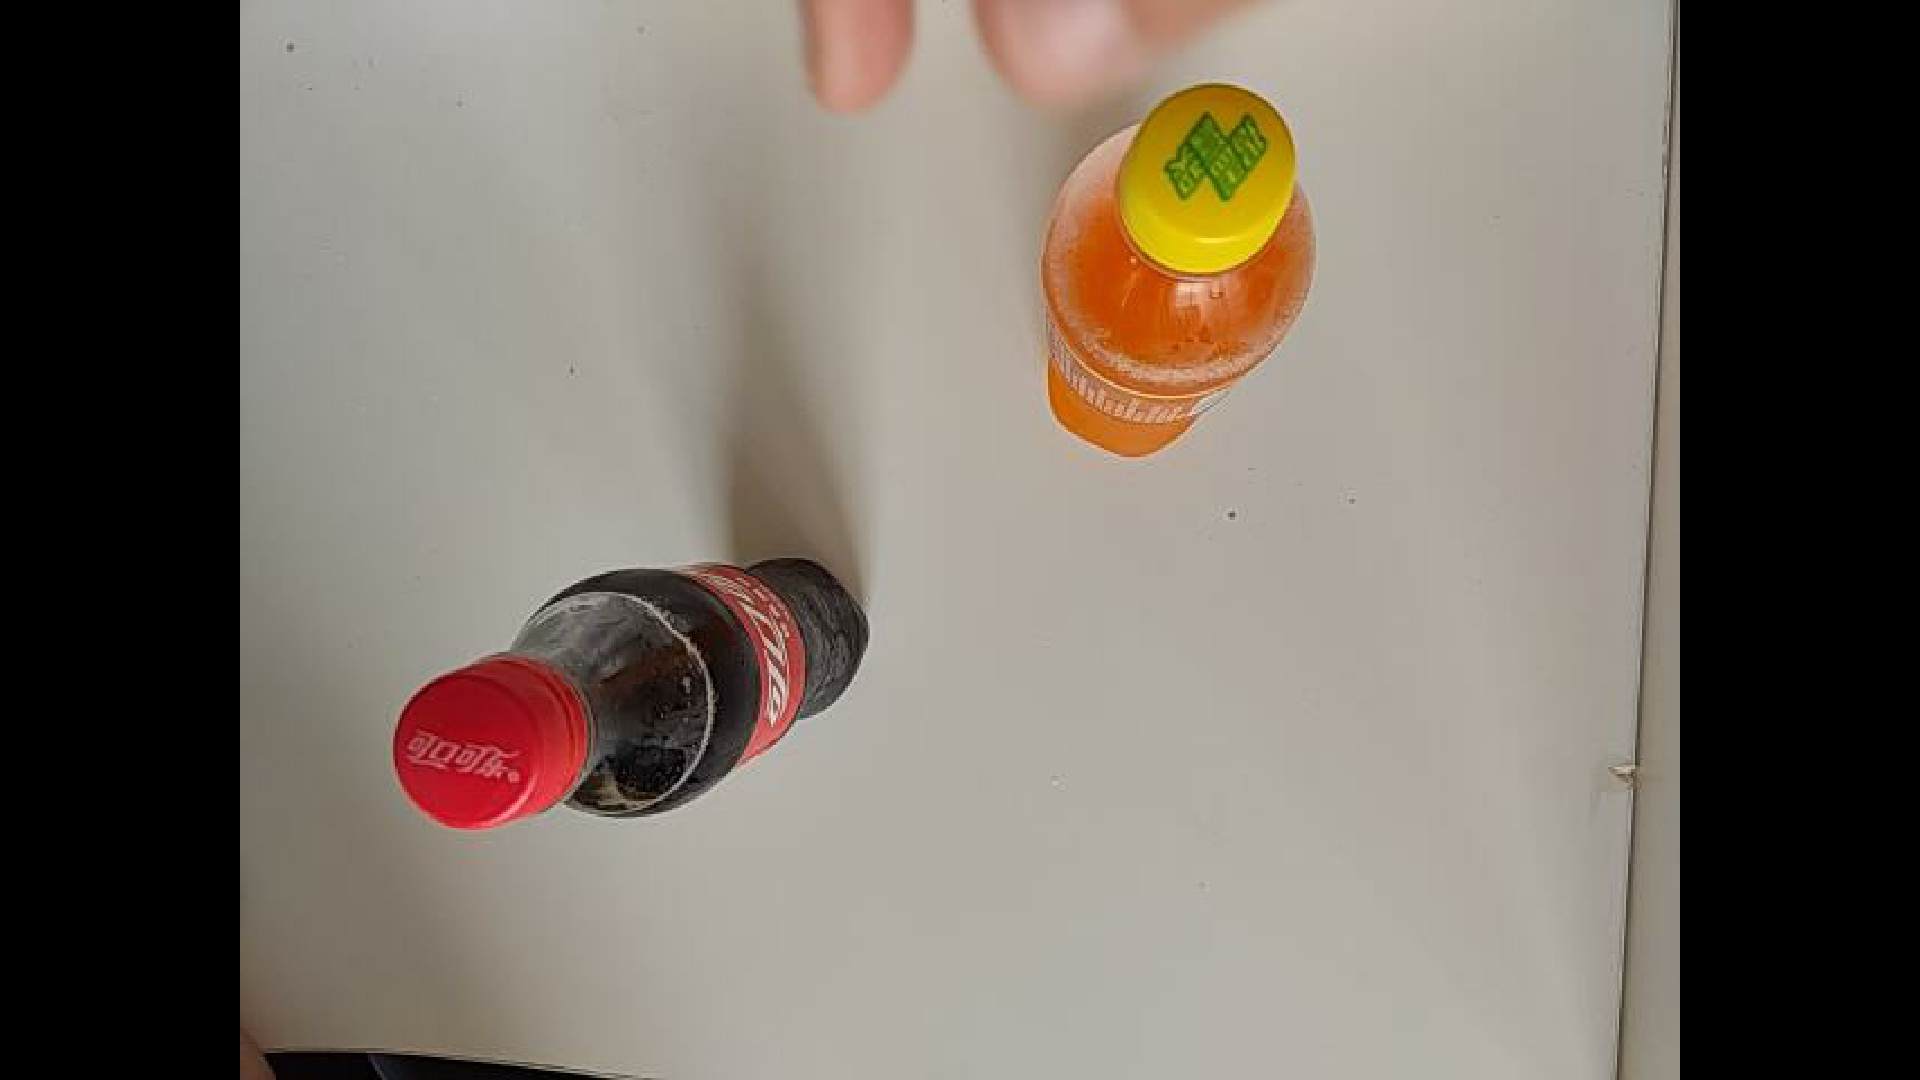cola: (351, 564, 980, 902)
fenta: (1036, 79, 1321, 463)
